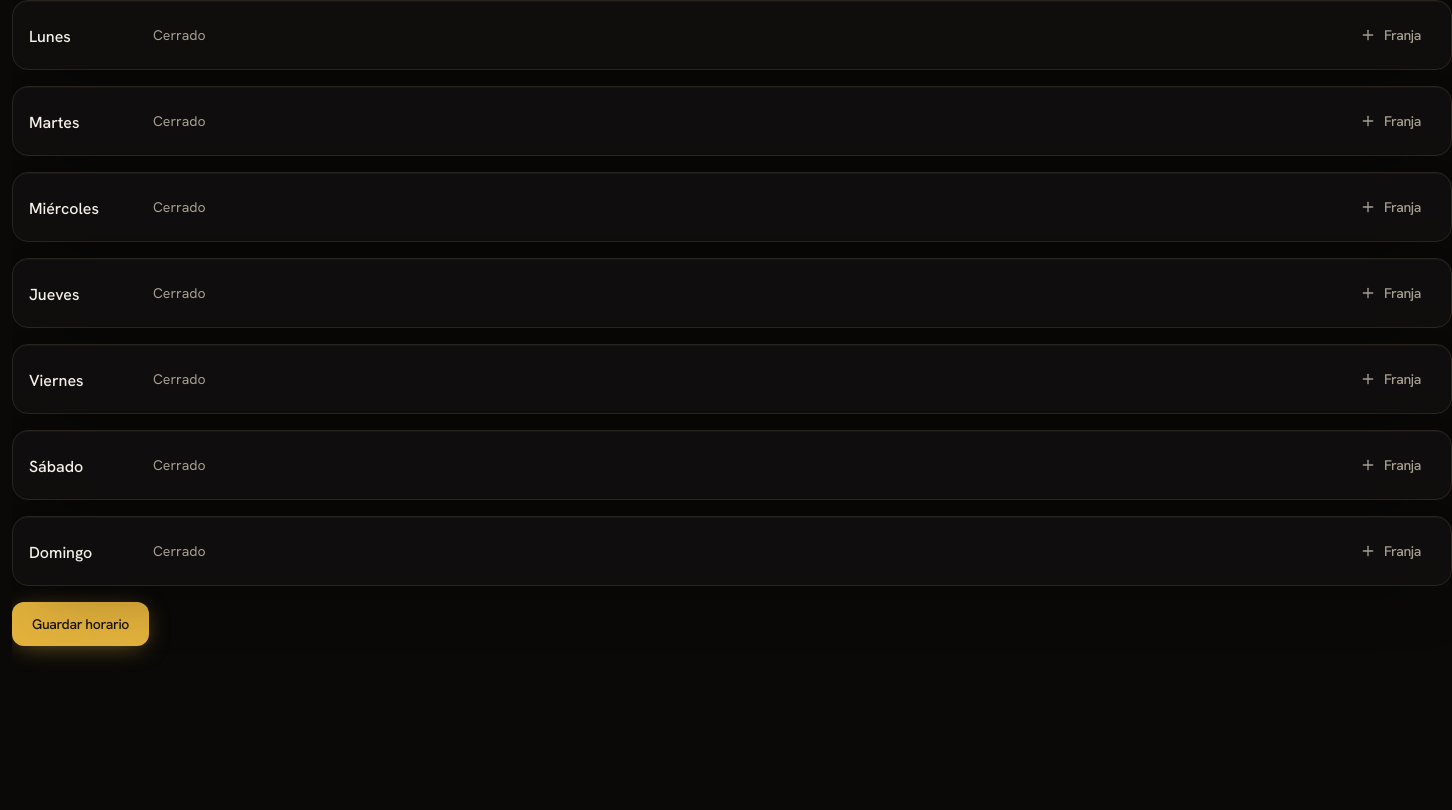
Test: ScheduleEditor › adds a window to the weekday the owner picked
This screenshot has width=1452, height=810.
Click the button with aria-label "Agregar franja el Miércoles".
click(1390, 207)  # box [1346,189,1435,225]
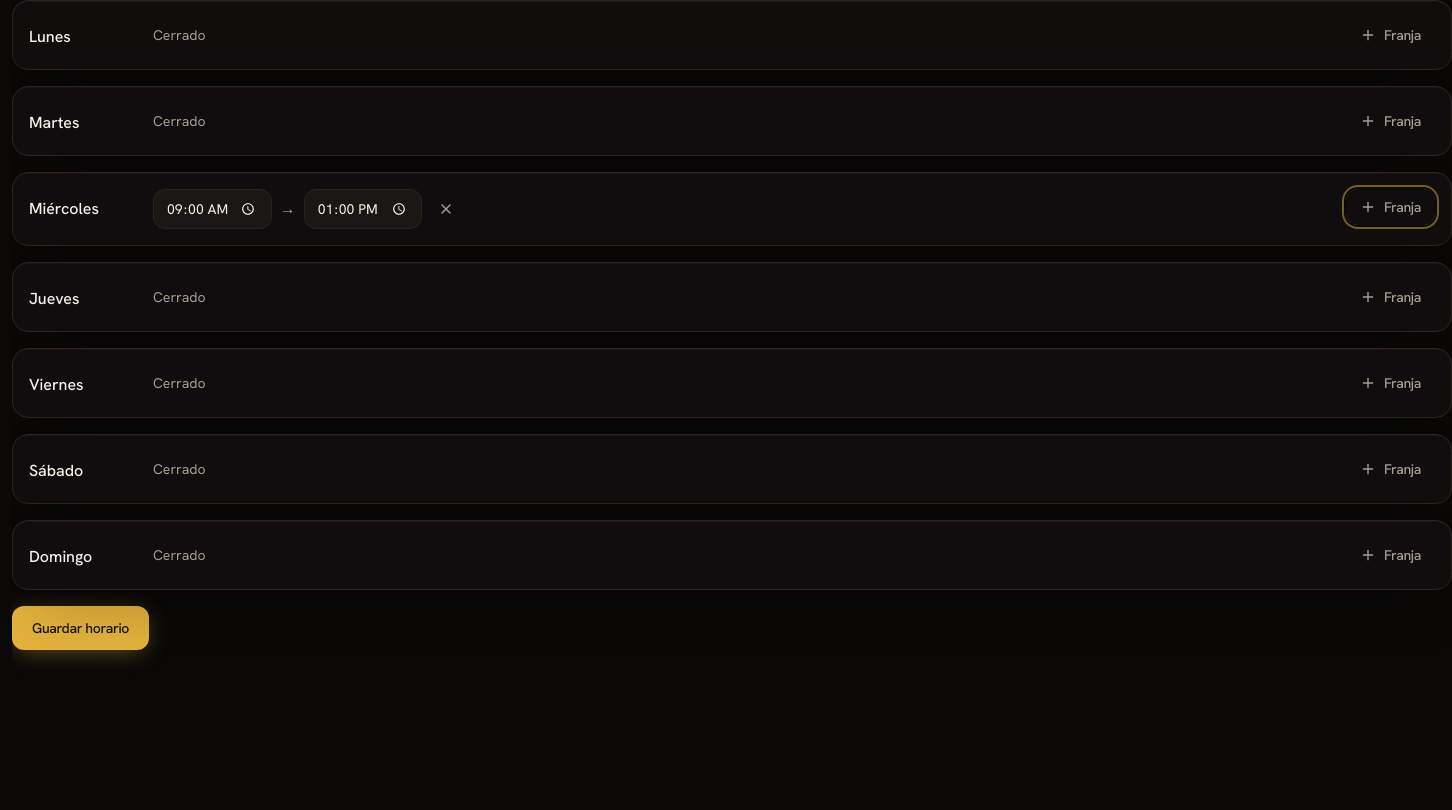
Check: the time field named "Desde" is shown, box [153,189,272,229]
